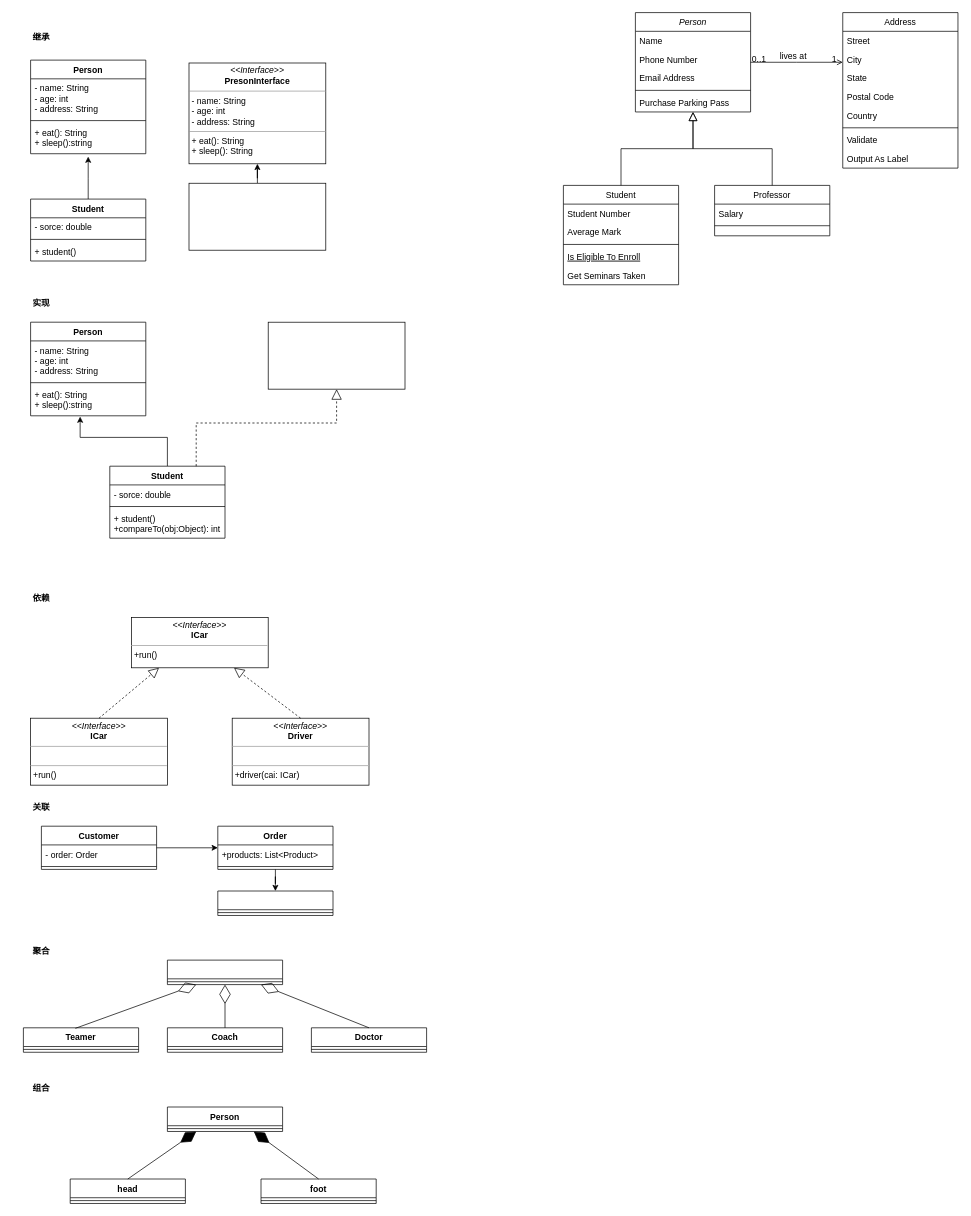
Image size: 971x1216. Some labels were removed from this diagram. Each missing label, with the centre of its shape:
<<Interface>> Comparable +compareTo(obj:Object): int: [336,355]
<<Interface>> StudentInterface - sorce: double + student(): String: [257,216]
Product: [275,902]
Team: [225,972]
